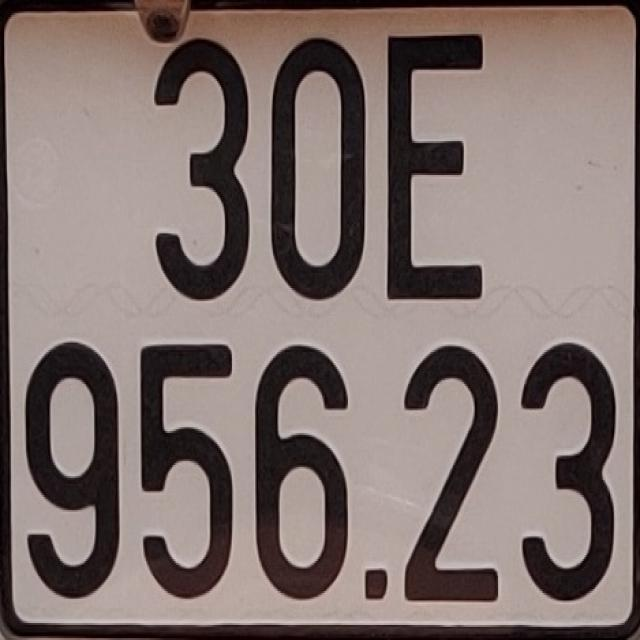0: (262, 29, 378, 304)
2: (393, 331, 508, 610)
3: (142, 24, 256, 308), (513, 329, 624, 608)
5: (134, 328, 240, 604)
6: (245, 333, 358, 606)
9: (15, 329, 126, 606)
E: (392, 18, 492, 310)
